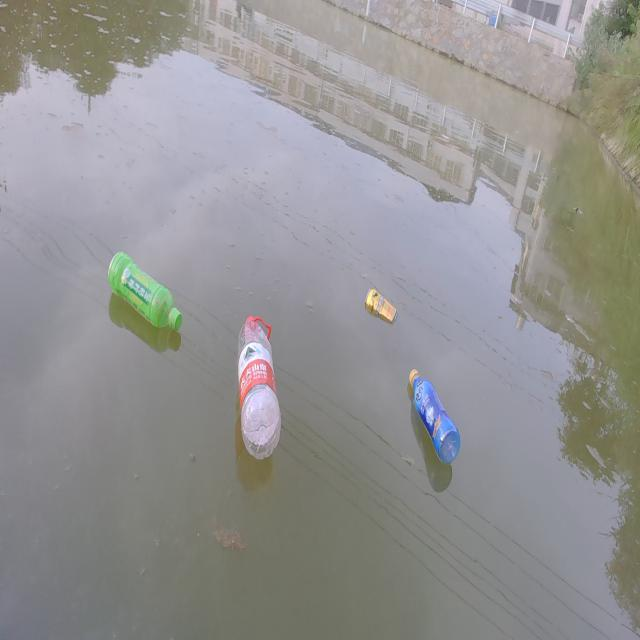garbage: (237, 314, 281, 460), (108, 250, 183, 332), (408, 367, 460, 463)
